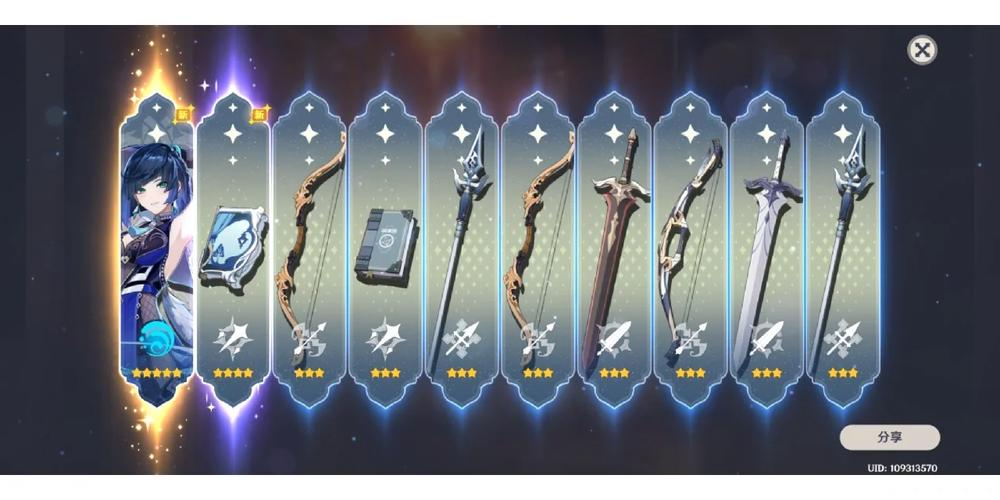夜兰: (119, 139, 189, 409)
